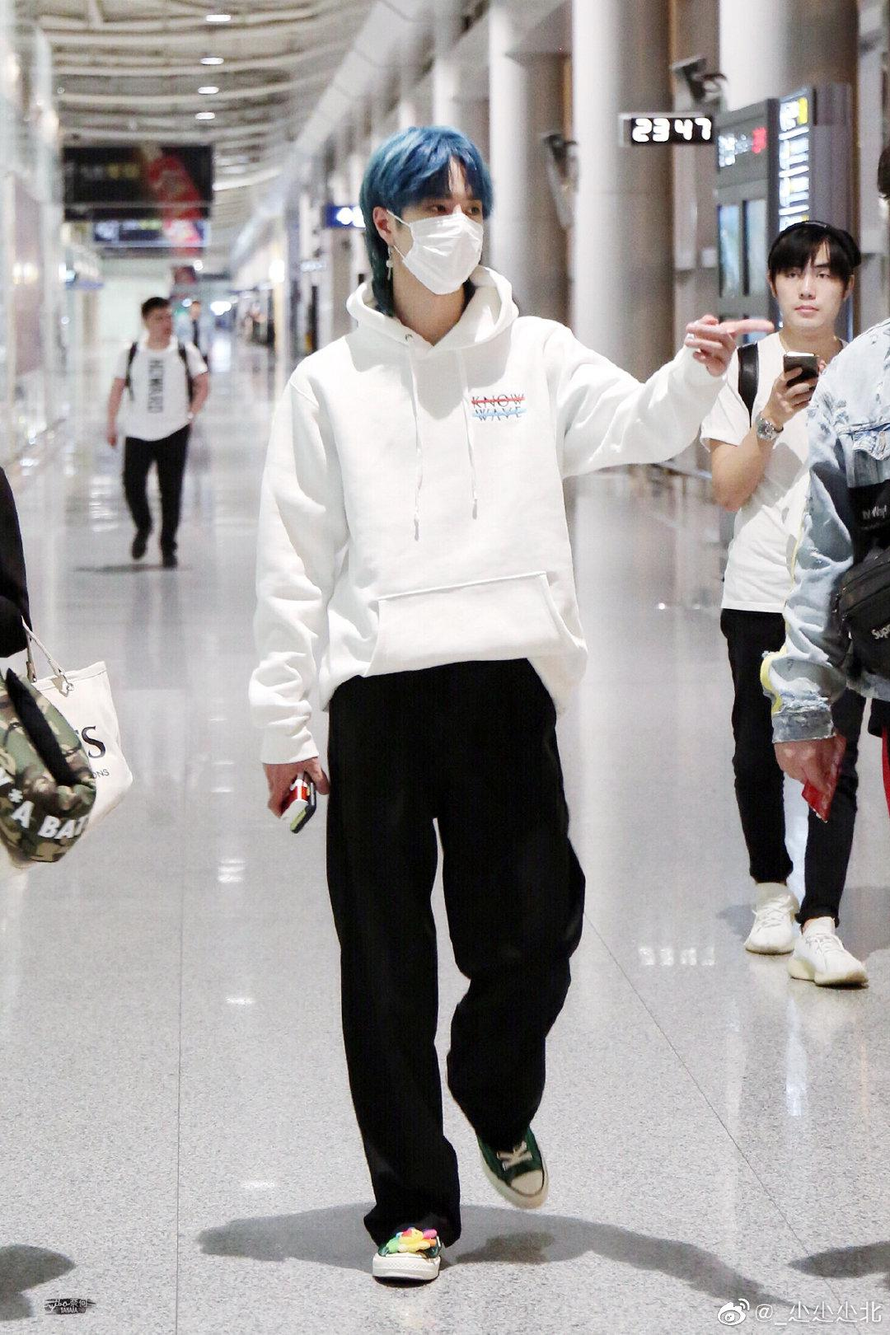NONE: (775, 256, 844, 332), (149, 308, 174, 340)
OK: (400, 184, 485, 294)
